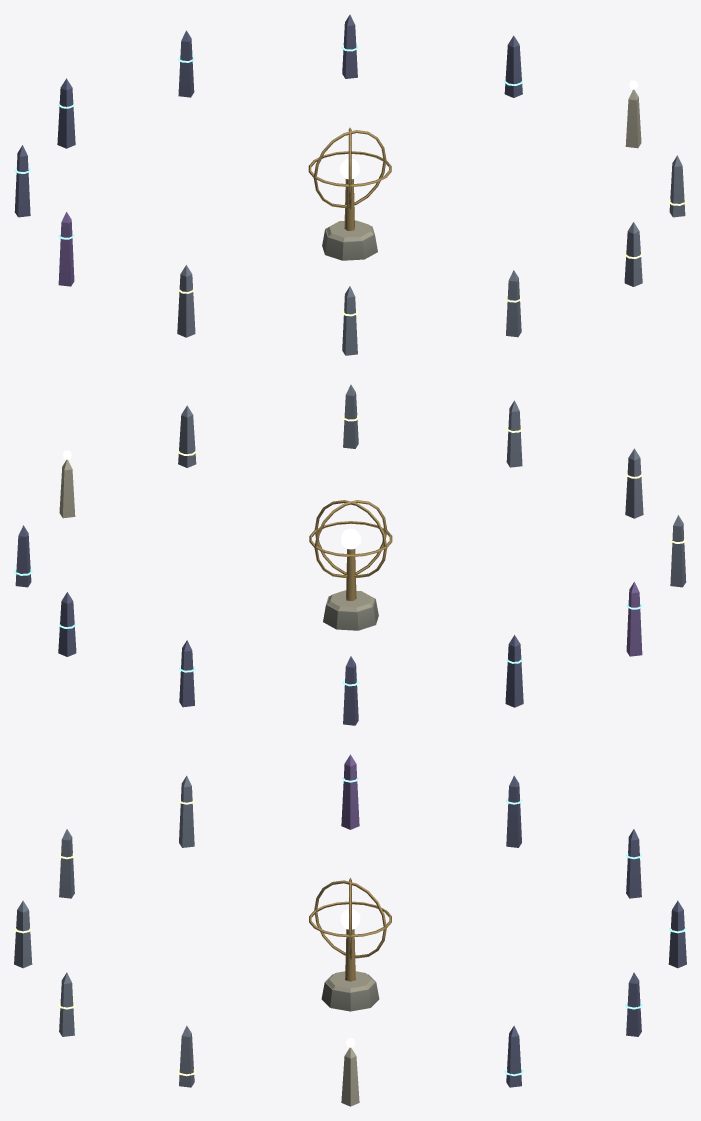
The model's file is landmark-r7-key-ring-far.glb.
The picture shows the model from 3 angles, top to bottom: view 1: azimuth 30°, elevation 25°; view 2: azimuth 150°, elevation 25°; view 3: azimuth 270°, elevation 25°; orthographic projection.
Visible parts, largest first — view 1: Static_far; view 2: Static_far; view 3: Static_far.
Part boxes in pixels (bbox=[...]): Static_far: bbox=[14, 14, 685, 355]; Static_far: bbox=[15, 384, 686, 725]; Static_far: bbox=[14, 754, 686, 1106].
Size of the model in its own units: 107 by 20.58 by 107.
